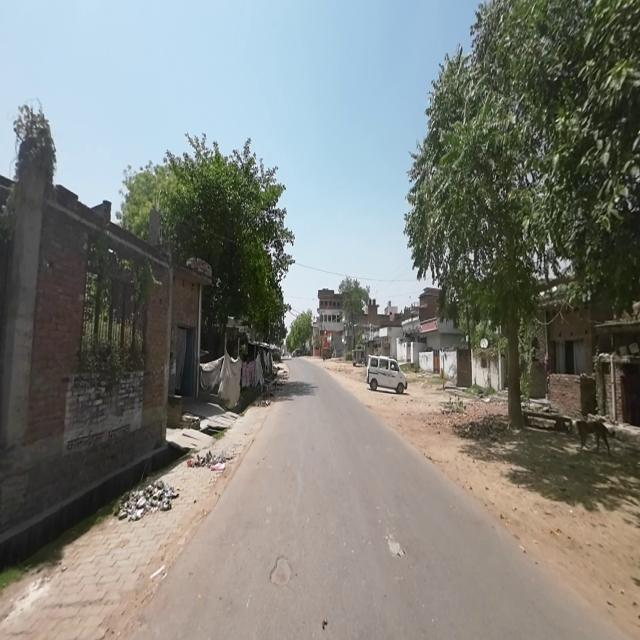Garbage: (115, 478, 178, 520), (188, 448, 230, 471), (254, 397, 272, 409)
